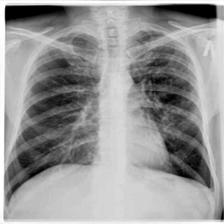tuberculosis: (7, 17, 214, 207)
